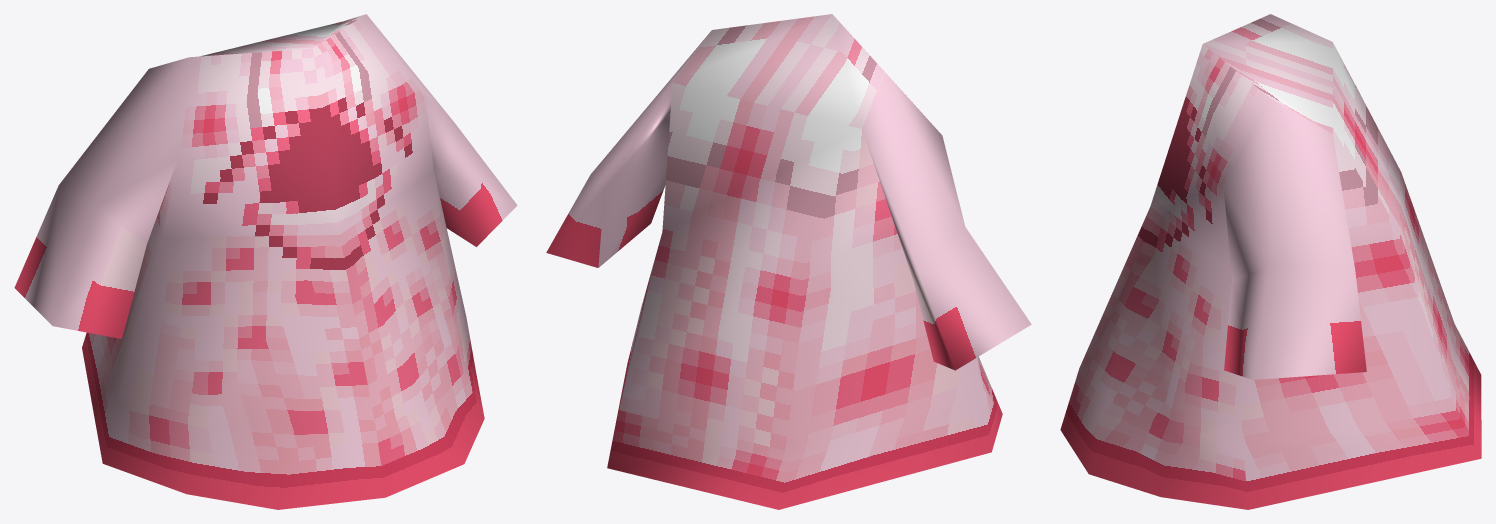
3 views of the same model, side by side, from view 1: azimuth 30°, elevation 25°; view 2: azimuth 150°, elevation 25°; view 3: azimuth 270°, elevation 25° (orthographic). The views are drawn at different scales.
Parts seen in each view (by area): view 1: 2574dress000_r; view 2: 2574dress000_r; view 3: 2574dress000_r.
Boxes of the visible parts, x1,y1,x2,y2 form: 2574dress000_r: (14, 14, 517, 509); 2574dress000_r: (546, 14, 1031, 509); 2574dress000_r: (1060, 14, 1481, 509).
Bounding box in the file's own units: 1.09 × 0.8945 × 0.8848.
Materials: 1 (1 with a texture image).
